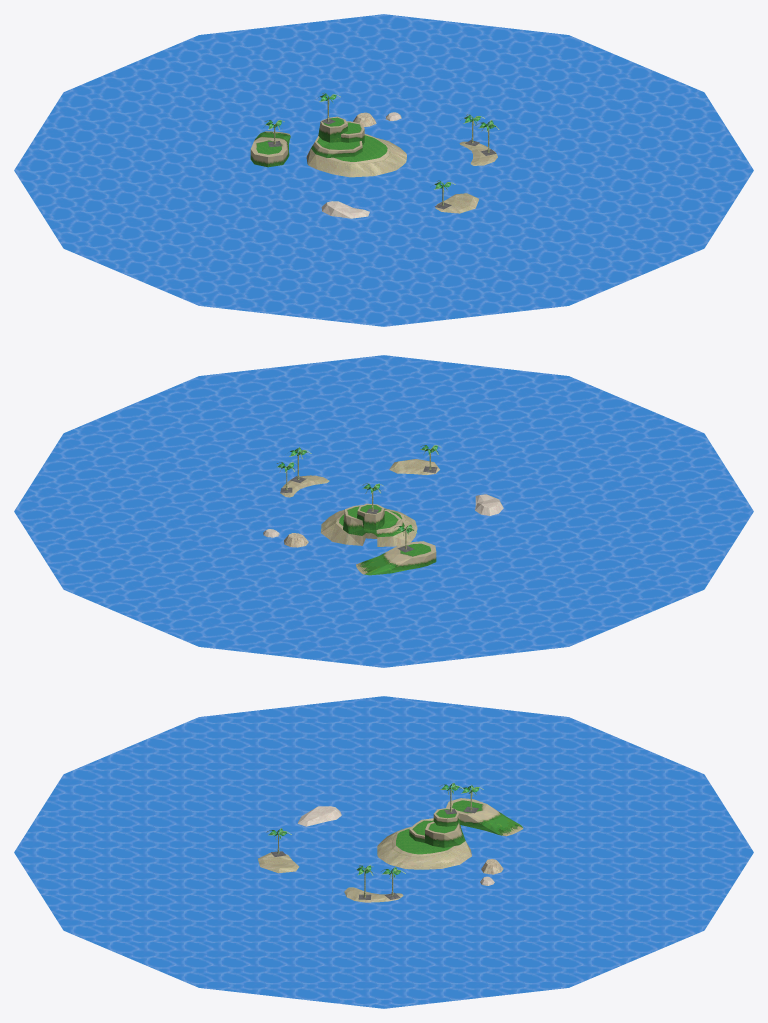
The model's file is vs_island_all.obj.
3 renders of one model, top to bottom at view 1: azimuth 30°, elevation 25°; view 2: azimuth 150°, elevation 25°; view 3: azimuth 270°, elevation 25°, orthographic.
Parts seen in each view (by area): view 1: r0; view 2: r0; view 3: r0.
Boxes of the visible parts, bbox=[...] form: r0: bbox=[14, 14, 753, 326]; r0: bbox=[14, 355, 753, 667]; r0: bbox=[14, 696, 753, 1008].
Bounding box in the file's own units: 24 × 2.07 × 24.
11 materials, 11 textured.
